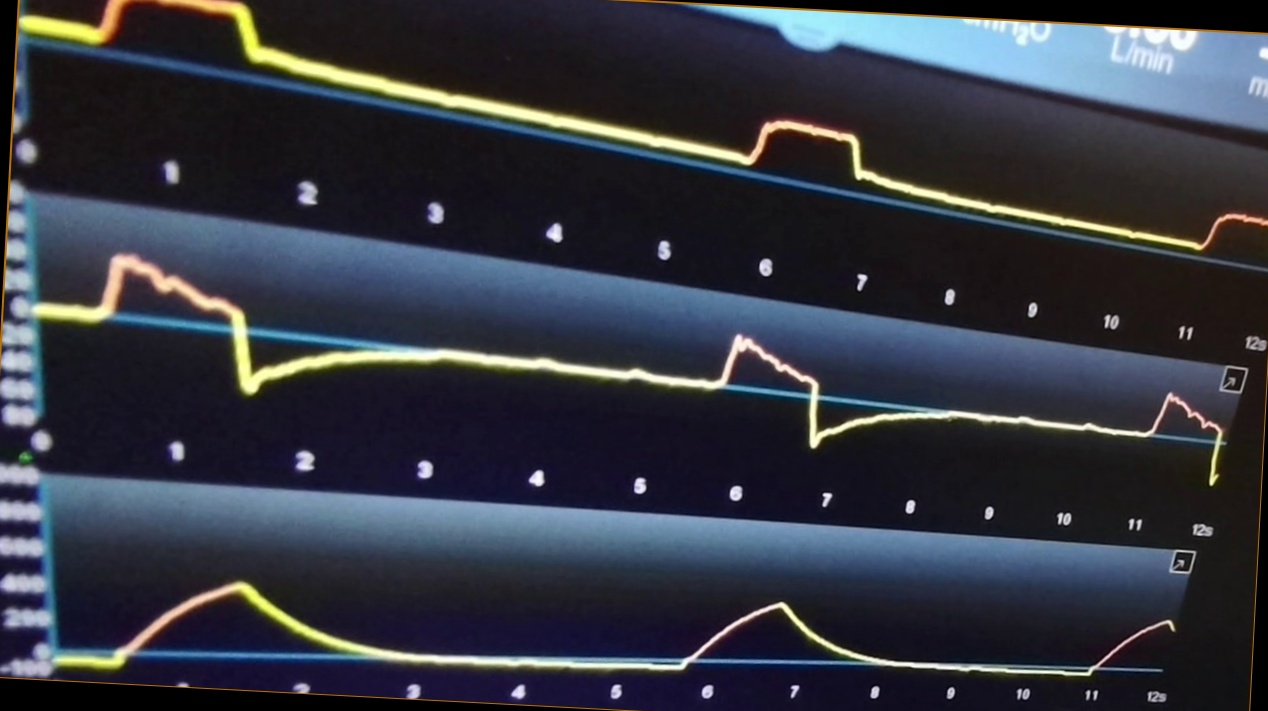Accumulation Flow: (44, 251, 1226, 487)
Volume: (67, 577, 1175, 683)
